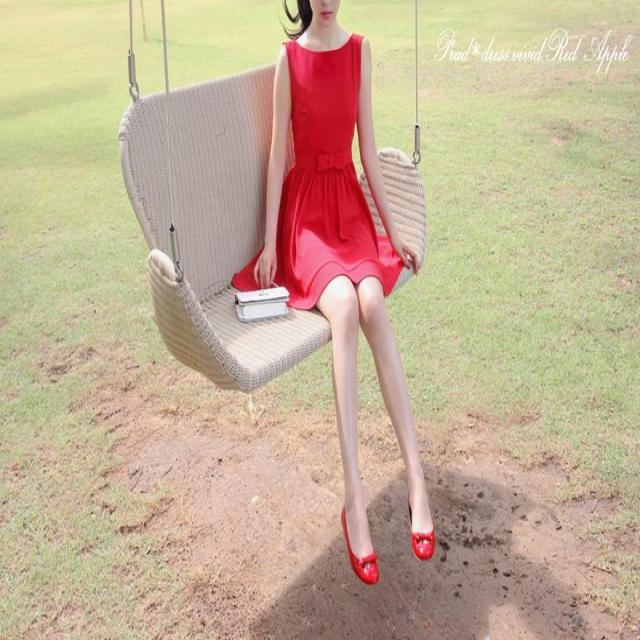short-sleeve-outwear: (270, 35, 404, 342)
